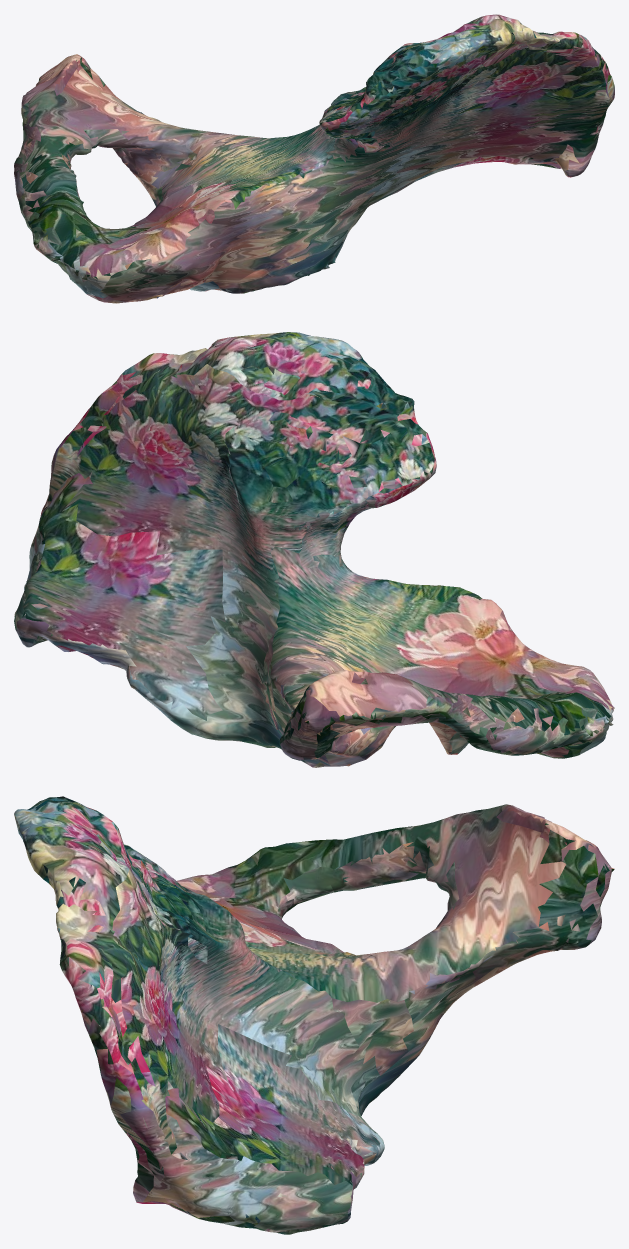
File: tds_bone.glb
The picture shows the model from 3 angles, top to bottom: view 1: azimuth 30°, elevation 25°; view 2: azimuth 150°, elevation 25°; view 3: azimuth 270°, elevation 25°; orthographic projection. The views are drawn at different scales.
Visible parts, largest first — view 1: A; view 2: A; view 3: A.
Boxes of the visible parts, left/top/right/bottom form: A: left=14, top=14, right=614, bottom=303; A: left=14, top=332, right=614, bottom=767; A: left=14, top=796, right=614, bottom=1234.
Bounding box in the file's own units: 2 × 0.9597 × 1.41.
Materials: 1 (1 with a texture image).
